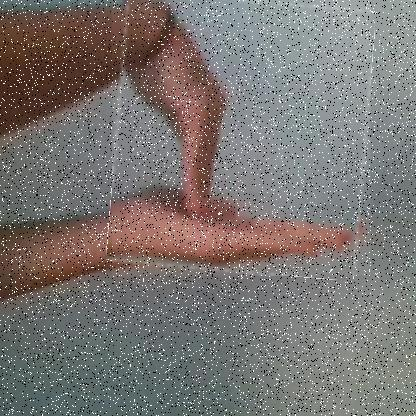Z: (112, 0, 372, 277)
